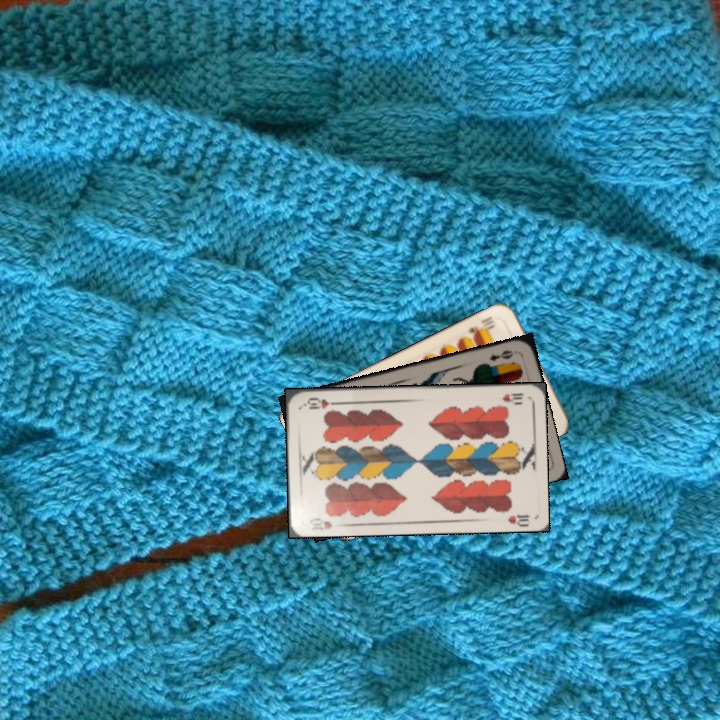E10: (464, 312, 496, 340)
EO: (485, 346, 515, 364)
H10: (306, 514, 334, 532), (498, 389, 526, 406)
